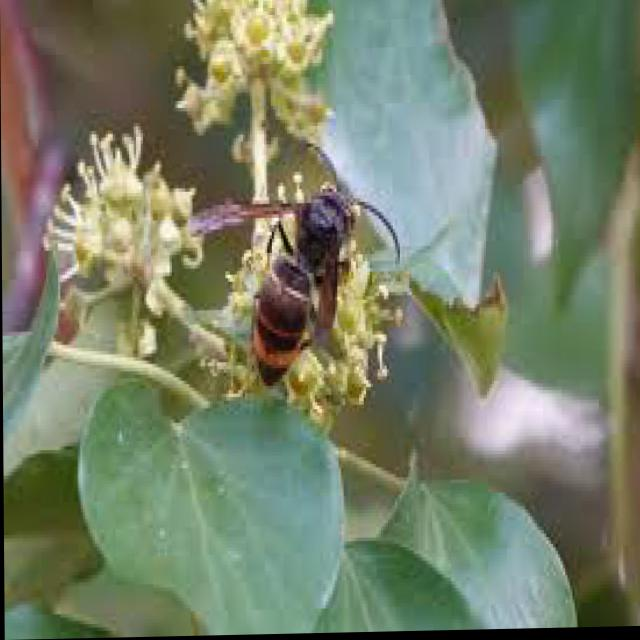Vespa Velutina: (180, 170, 405, 401)
